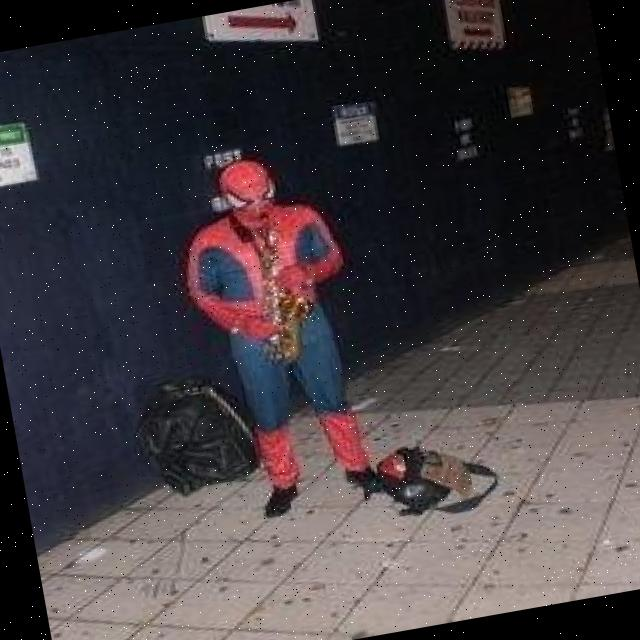saxophone: (231, 203, 326, 368)
